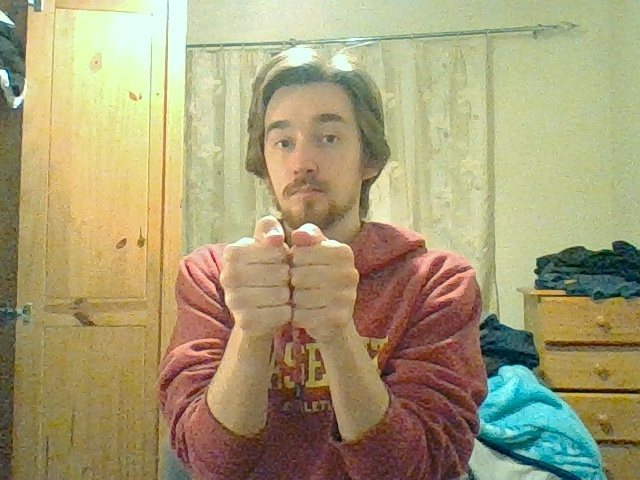brother: (218, 215, 359, 326)
